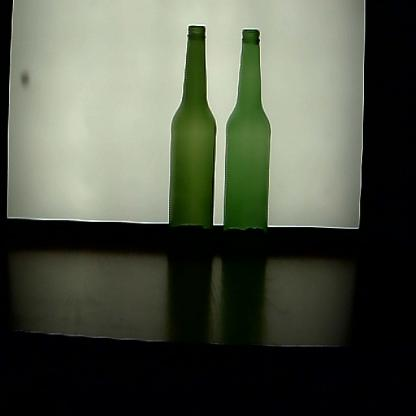Can: (221, 26, 277, 268), (166, 21, 218, 269)
